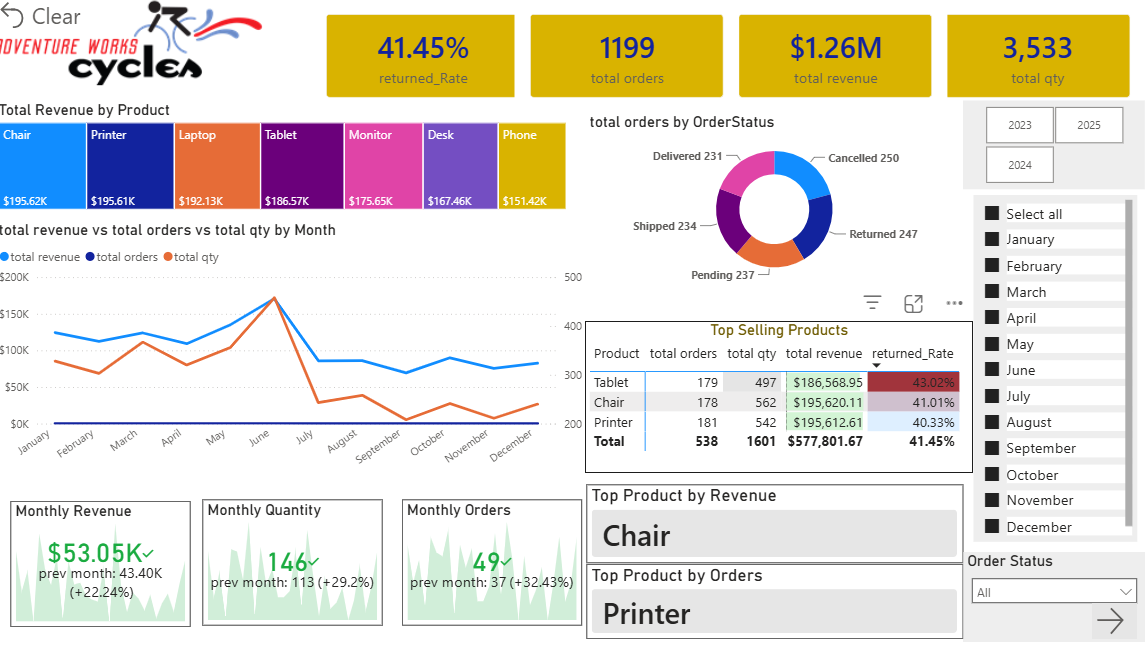

Layout of this report page (visuals, bound fields, positions):
{"tool":"powerbi","page":{"name":"Executive Summary","canvas":[1280,720],"ordinal":0},"visuals":[{"type":"group","id":"g1","title":"Group 1","box":[351.4,1.4,928.6,127.1],"z":0},{"type":"cardVisual","fields":{"Data":["Cleaned_Data.total qty"]},"box":[1038.7,1.4,241.7,127.1],"z":0,"group":"g1"},{"type":"cardVisual","fields":{"Data":["Cleaned_Data.total revenue"]},"box":[809.6,1.4,249.6,127.1],"z":1000,"group":"g1"},{"type":"treemap","title":"Total Revenue by Product","fields":{"Group":["Cleaned_Data.Product"],"Values":["Cleaned_Data.total revenue"]},"box":[0,115.1,640.5,125.7],"z":1000},{"type":"kpi","title":"Monthly Revenue","fields":{"Indicator":["Cleaned_Data.total revenue"],"Goal":["Cleaned_Data.prev month revenue"],"TrendLine":["Cleaned_Data.Start of Month"]},"box":[18.3,559.9,200.3,140],"z":1000,"group":"g2"},{"type":"cardVisual","fields":{"Data":["Cleaned_Data.returned order"]},"box":[351.4,1.4,249.6,127.1],"z":2000,"group":"g1"},{"type":"lineChart","title":"total revenue vs total orders vs total qty by Month","fields":{"Y":["Cleaned_Data.total revenue","Cleaned_Data.total orders"],"Y2":["Cleaned_Data.total qty"],"Category":["Cleaned_Data.Month"]},"box":[0,248.3,658.3,293.3],"z":2000},{"type":"kpi","title":"Monthly Quantity","fields":{"Indicator":["Cleaned_Data.total qty"],"Goal":["Cleaned_Data.prev month qty"],"TrendLine":["Cleaned_Data.Start of Month"]},"box":[231.5,558.3,200.3,140],"z":2000,"group":"g2"},{"type":"cardVisual","fields":{"Data":["Cleaned_Data.orderscount"]},"box":[578.6,1.4,249.6,127.1],"z":3000,"group":"g1"},{"type":"pivotTable","title":"Top Selling Products","fields":{"Rows":["Cleaned_Data.Product"],"Values":["Cleaned_Data.total orders","Cleaned_Data.total qty","Cleaned_Data.total revenue","Cleaned_Data.returned order"]},"box":[656.7,360,431.7,169],"z":3000},{"type":"kpi","title":"Monthly Orders","fields":{"Indicator":["Cleaned_Data.orderscount"],"Goal":["Cleaned_Data.prev month order"],"TrendLine":["Cleaned_Data.Start of Month"]},"box":[453.1,558.3,200.3,140],"z":3000,"group":"g2"},{"type":"donutChart","title":"total orders by OrderStatus","fields":{"Category":["Cleaned_Data.OrderStatus"],"Y":["Cleaned_Data.total orders"]},"box":[656.2,127.5,420,195],"z":4000},{"type":"cardVisual","title":"Top Product by Revenue","fields":{"Data":["Min(Cleaned_Data.Product)"]},"box":[658.6,541.4,418.6,87.1],"z":5000},{"type":"cardVisual","title":"Top Product by Orders","fields":{"Data":["Min(Cleaned_Data.Product)"]},"box":[658.3,630,418.3,83.3],"z":6000},{"type":"slicer","fields":{"Values":["Cleaned_Data.Year"]},"box":[1076.7,115,201.7,98.3],"z":7000},{"type":"slicer","fields":{"Values":["Cleaned_Data.Month"]},"box":[1076.7,213.3,201.7,403.3],"z":8000},{"type":"slicer","title":"Order Status","fields":{"Values":["Cleaned_Data.OrderStatus"]},"box":[1076.7,616.7,203.3,100],"z":9000},{"type":"group","id":"g2","title":"Group 2","box":[18.3,558.3,636.7,141.7],"z":10000},{"type":"image","box":[0,0,301.2,102.5],"z":11000},{"type":"actionButton","box":[0,0,100,40],"z":12000},{"type":"actionButton","box":[1220,673.3,50,40],"z":13000}]}

Visuals, with their boxes in screenshot pixels (x1, y1, x2, y2), scaled from the page's 1280x720 canvas onto the 1145x645 screenshot:
"Group 1" group: [left=314, top=1, right=1144, bottom=115]
cardVisual - Cleaned_Data.total qty: [left=929, top=1, right=1144, bottom=115]
cardVisual - Cleaned_Data.total revenue: [left=724, top=1, right=947, bottom=115]
"Total Revenue by Product" treemap: [left=0, top=103, right=573, bottom=216]
"Monthly Revenue" kpi: [left=16, top=502, right=196, bottom=627]
cardVisual - Cleaned_Data.returned order: [left=314, top=1, right=538, bottom=115]
"total revenue vs total orders vs total qty by Month" lineChart: [left=0, top=222, right=589, bottom=485]
"Monthly Quantity" kpi: [left=207, top=500, right=386, bottom=626]
cardVisual - Cleaned_Data.orderscount: [left=518, top=1, right=741, bottom=115]
"Top Selling Products" pivotTable: [left=587, top=322, right=974, bottom=474]
"Monthly Orders" kpi: [left=405, top=500, right=584, bottom=626]
"total orders by OrderStatus" donutChart: [left=587, top=114, right=963, bottom=289]
"Top Product by Revenue" cardVisual: [left=589, top=485, right=964, bottom=563]
"Top Product by Orders" cardVisual: [left=589, top=564, right=963, bottom=639]
slicer - Cleaned_Data.Year: [left=963, top=103, right=1144, bottom=191]
slicer - Cleaned_Data.Month: [left=963, top=191, right=1144, bottom=552]
"Order Status" slicer: [left=963, top=552, right=1144, bottom=642]
"Group 2" group: [left=16, top=500, right=586, bottom=627]
image: [left=0, top=0, right=269, bottom=92]
actionButton: [left=0, top=0, right=89, bottom=36]
actionButton: [left=1091, top=603, right=1136, bottom=639]
